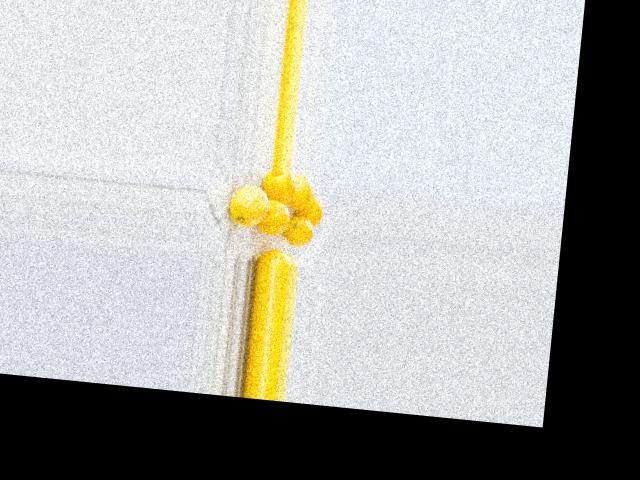lemon: (227, 179, 273, 235)
